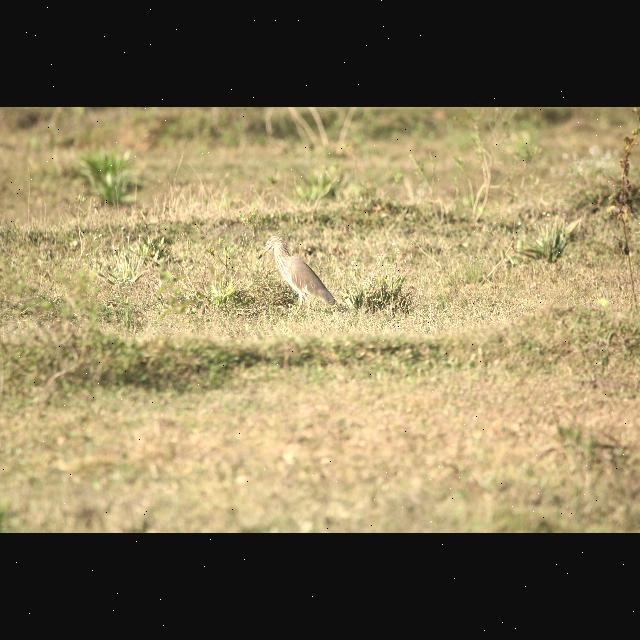heron: (255, 232, 337, 314)
